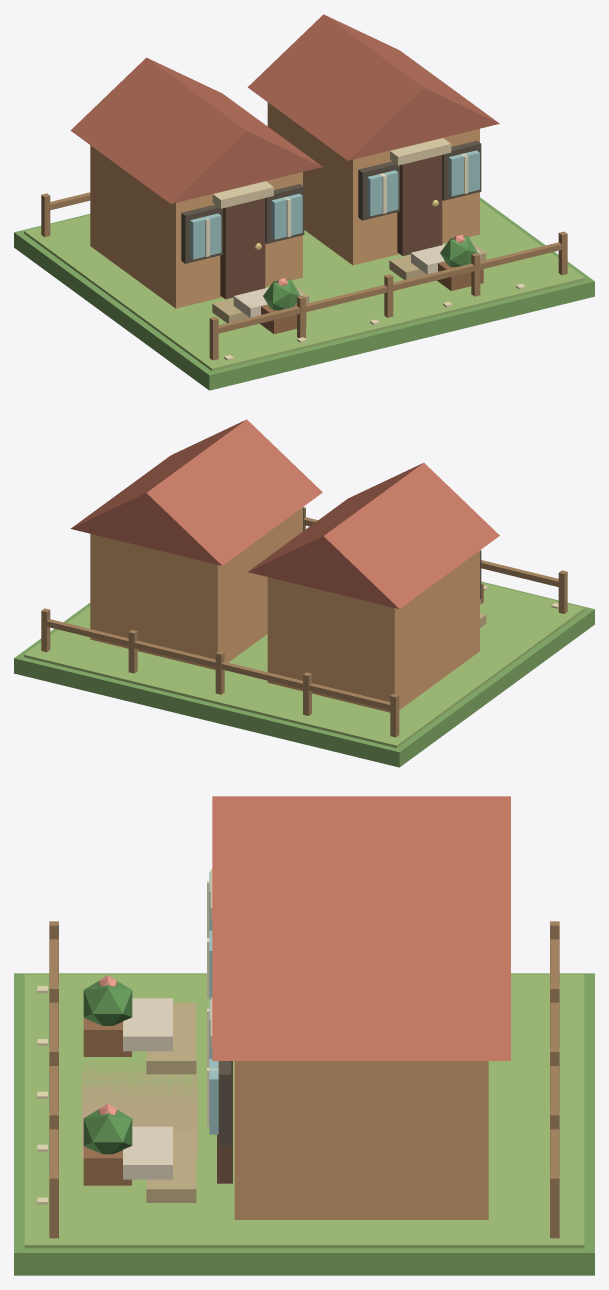
File: hut-lv2.obj
The picture shows the model from 3 angles, top to bottom: view 1: azimuth 30°, elevation 25°; view 2: azimuth 150°, elevation 25°; view 3: azimuth 270°, elevation 25°; orthographic projection. The views are drawn at different scales.
Visible parts, largest first — view 1: hut_4, hut_1, hut_3, hut_0, hut_5, hut_17, hut_9, hut_8, hut_6, hut_19, hut_12, hut_11 (+2 smaller); view 2: hut_3, hut_4, hut_1, hut_0, hut_17; view 3: hut_4, hut_1, hut_3, hut_0, hut_17, hut_16, hut_12, hut_11, hut_19, hut_18, hut_9, hut_8 (+2 smaller).
Boxes of the visible parts, x1,y1,x2,y2 form: hut_4: (70,14,499,203); hut_1: (24,201,584,371); hut_3: (90,102,479,308); hut_0: (14,197,594,390); hut_5: (220,155,442,299); hut_17: (41,192,567,360); hut_9: (190,150,479,259); hut_8: (181,140,481,263); hut_6: (212,138,451,208); hut_19: (263,236,477,310); hut_12: (233,244,480,317); hut_11: (212,243,486,322); hut_3: (90,507,479,712); hut_4: (70,419,499,608); hut_1: (24,582,584,747); hut_0: (14,581,594,767); hut_17: (41,507,567,737); hut_4: (212,796,510,1060); hut_1: (24,974,584,1248); hut_3: (234,1061,488,1219); hut_0: (14,973,594,1275); hut_17: (49,921,559,1238); hut_16: (82,1061,197,1158); hut_12: (123,998,172,1179); hut_11: (146,1003,196,1202); hut_19: (83,981,132,1154); hut_18: (83,1017,131,1185); hut_9: (209,871,218,1134); hut_8: (218,1061,231,1145).
Bounding box in the file's own units: 3.7 × 1.7 × 3.25.
